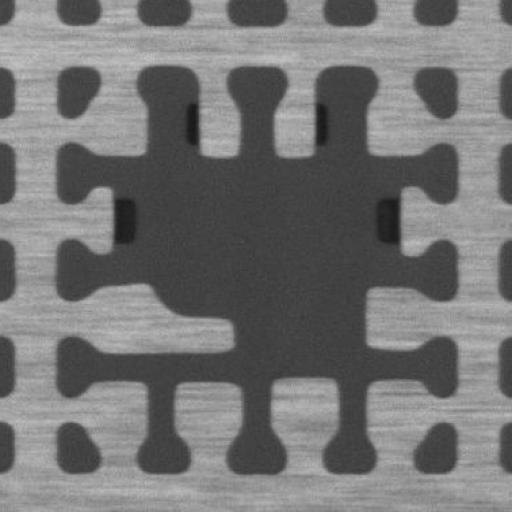NO_DIE: (53, 60, 455, 475)
